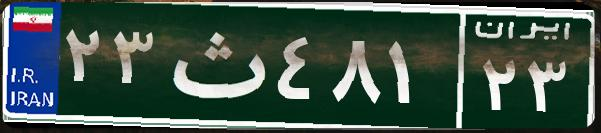1: (385, 28, 445, 110)
2: (57, 26, 110, 107), (475, 38, 525, 113)
3: (110, 28, 158, 105), (525, 38, 570, 115)
4: (273, 28, 330, 110)
8: (330, 28, 385, 110)
ث: (158, 15, 273, 115)
